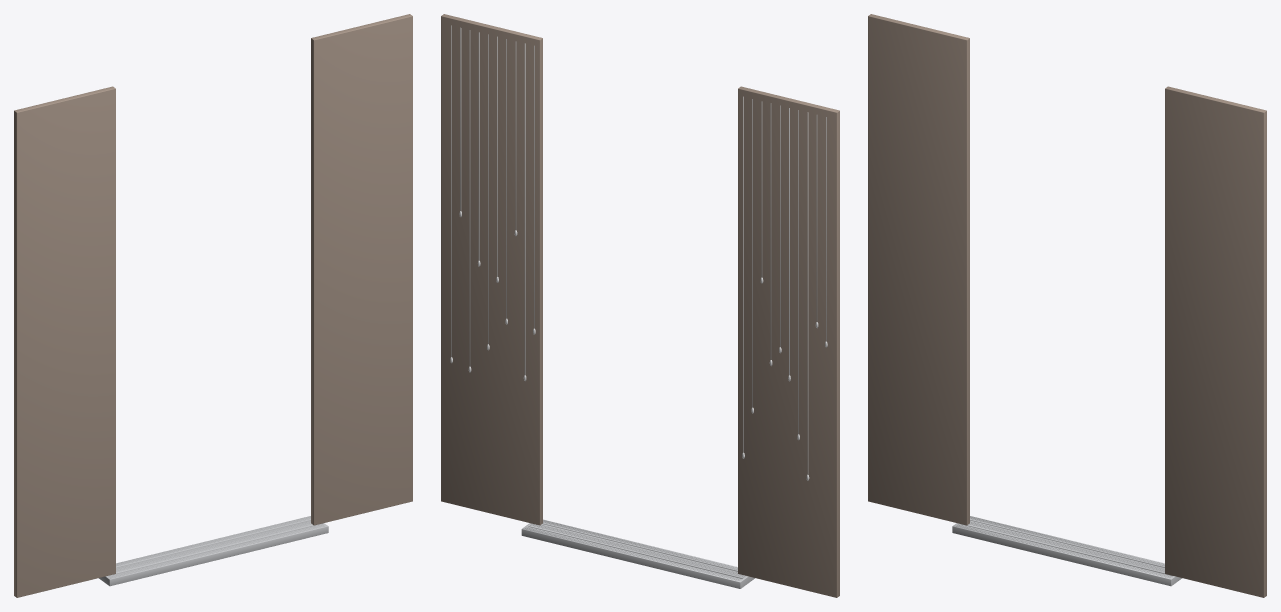
File: cabin_door_TM027.glb
The picture shows the model from 3 angles, left to right: view 1: azimuth 30°, elevation 25°; view 2: azimuth 150°, elevation 25°; view 3: azimuth 330°, elevation 25°; orthographic projection.
Parts seen in each view (by area): view 1: Car_Door_L, Car_Door_R, Door_Sill; view 2: Car_Door_L, Car_Door_R, Door_Sill; view 3: Car_Door_L, Car_Door_R, Door_Sill.
Part boxes in pixels (x1=…): Car_Door_L: x1=14, y1=86, x2=115, y2=597; Car_Door_R: x1=311, y1=14, x2=412, y2=525; Door_Sill: x1=98, y1=516, x2=328, y2=586; Car_Door_L: x1=738, y1=86, x2=839, y2=597; Car_Door_R: x1=441, y1=14, x2=542, y2=525; Door_Sill: x1=521, y1=519, x2=754, y2=588; Car_Door_L: x1=868, y1=14, x2=969, y2=525; Car_Door_R: x1=1165, y1=86, x2=1266, y2=597; Door_Sill: x1=952, y1=516, x2=1182, y2=586.
Bounding box in the file's own units: 1.81 × 2.15 × 0.12.
